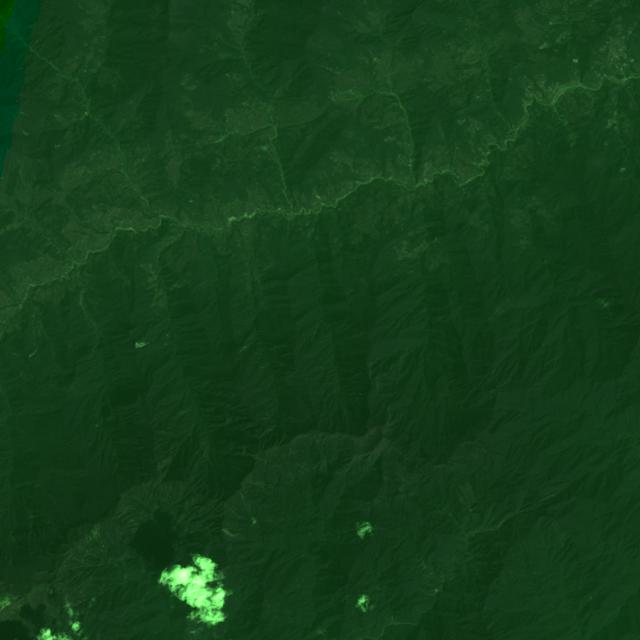landslides: (227, 462, 248, 478), (309, 320, 324, 341), (6, 0, 17, 21), (135, 338, 155, 348), (321, 65, 342, 74), (314, 189, 325, 205), (91, 527, 102, 543), (240, 341, 255, 352), (224, 529, 242, 537), (219, 51, 237, 59), (66, 600, 73, 618)
